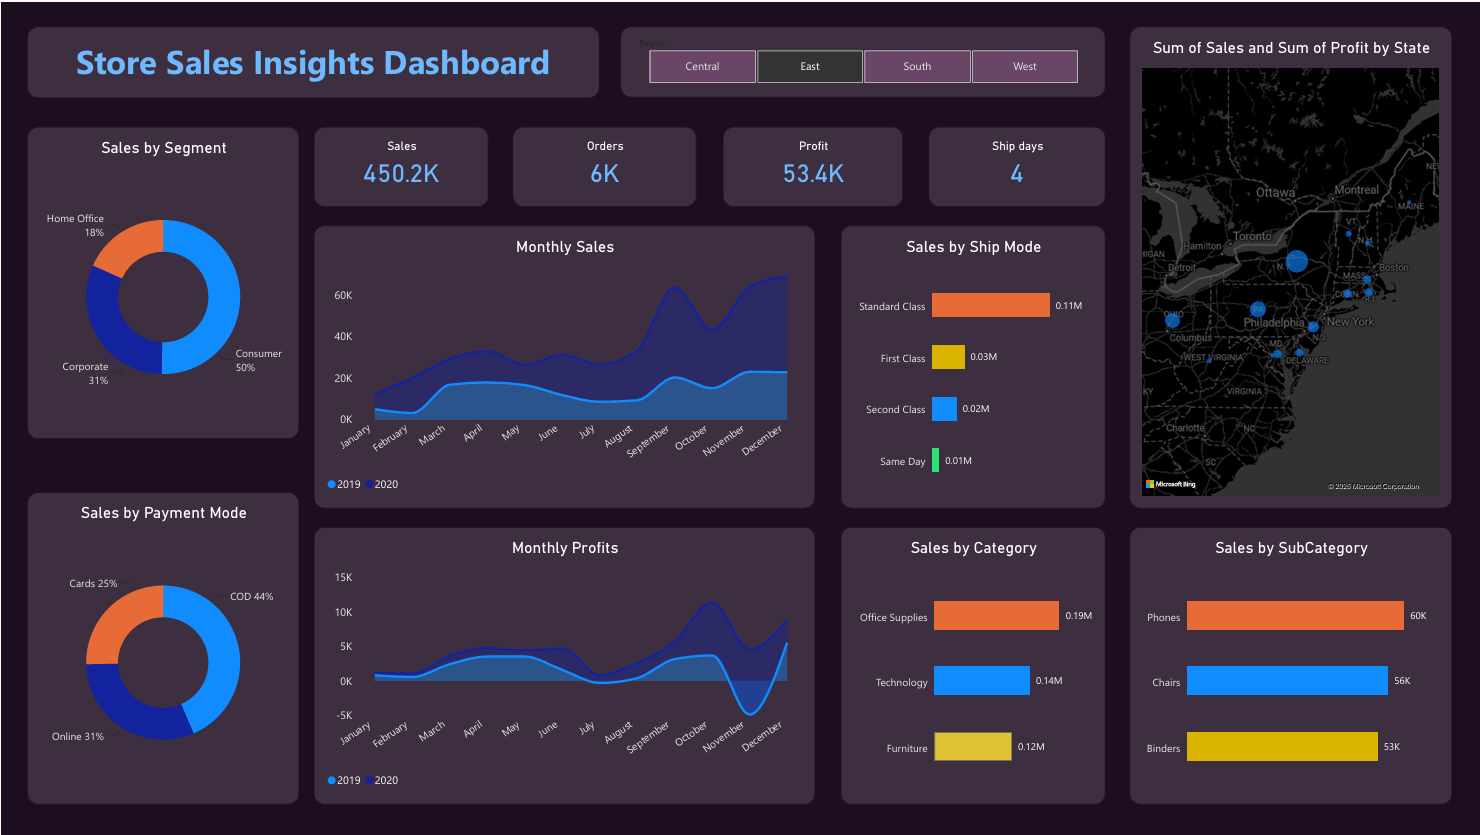

Layout of this report page (visuals, bound fields, positions):
{"tool":"powerbi","page":{"name":"Page 1","canvas":[1920,1080],"ordinal":0},"visuals":[{"type":"clusteredBarChart","title":"Sales by Category","fields":{"Category":["Sheet1.Category"],"Y":["Sum(Sheet1.Sales)"]},"box":[1089.5,679.7,343.4,360],"z":0},{"type":"clusteredBarChart","title":"Sales by SubCategory","fields":{"Category":["Sheet1.Sub-Category"],"Y":["Sum(Sheet1.Sales)"]},"box":[1463.7,679.7,419.2,360],"z":1000},{"type":"clusteredBarChart","title":"Sales by Ship Mode","fields":{"Category":["Sheet1.Ship Mode"],"Y":["Sum(Sheet1.Sales)"]},"box":[1089.5,289,343.4,367.1],"z":2000},{"type":"stackedAreaChart","title":"Monthly Sales ","fields":{"Category":["Sheet1.Order Date.Variation.Date Hierarchy.Month","Sheet1.Order Date.Variation.Date Hierarchy.Day"],"Series":["Sheet1.Order Date.Variation.Date Hierarchy.Year"],"Y":["Sum(Sheet1.Sales)"]},"box":[405,289,651.3,367.1],"z":3000},{"type":"stackedAreaChart","title":"Monthly Profits ","fields":{"Category":["Sheet1.Order Date.Variation.Date Hierarchy.Month","Sheet1.Order Date.Variation.Date Hierarchy.Day"],"Series":["Sheet1.Order Date.Variation.Date Hierarchy.Year"],"Y":["Sum(Sheet1.Profit)"]},"box":[405,679.7,651.3,360],"z":4000},{"type":"map","fields":{"Category":["Sheet1.State"],"Size":["Sum(Sheet1.Sales)"]},"box":[1463.7,30.8,419.2,625.3],"z":5000},{"type":"donutChart","title":"Sales by Segment","fields":{"Category":["Sheet1.Segment"],"Y":["Sum(Sheet1.Sales)"]},"box":[33.2,161.1,352.9,405],"z":6000},{"type":"donutChart","title":"Sales by Payment Mode","fields":{"Category":["Sheet1.Payment Mode"],"Y":["Sum(Sheet1.Sales)"]},"box":[33.2,634.7,352.9,405],"z":7000},{"type":"slicer","fields":{"Values":["Sheet1.Region"]},"box":[802.9,30.8,630,92.4],"z":8000},{"type":"textbox","box":[33.2,30.8,742.7,93.1],"z":9000},{"type":"cardVisual","title":"Ship days","fields":{"Data":["Avg(Sheet1.AvgDelivery)"]},"box":[1203.2,161.1,229.7,104.2],"z":10000},{"type":"cardVisual","title":"Orders","fields":{"Data":["Sum(Sheet1.Quantity)"]},"box":[663.2,161.1,239.2,104.2],"z":11000},{"type":"cardVisual","title":"Profit","fields":{"Data":["Sum(Sheet1.Profit)"]},"box":[935.5,161.1,234.5,104.2],"z":12000},{"type":"cardVisual","title":"Sales","fields":{"Data":["Sum(Sheet1.Sales)"]},"box":[405,161.1,227.4,104.2],"z":13000}]}

Visuals, with their boxes in screenshot pixels (x1, y1, x2, y2), scaled from the page's 1920x1080 canvas onto the 1480x835 screenshot:
"Sales by Category" clusteredBarChart: (x1=840, y1=526, x2=1105, y2=804)
"Sales by SubCategory" clusteredBarChart: (x1=1128, y1=526, x2=1451, y2=804)
"Sales by Ship Mode" clusteredBarChart: (x1=840, y1=223, x2=1105, y2=507)
"Monthly Sales " stackedAreaChart: (x1=312, y1=223, x2=814, y2=507)
"Monthly Profits " stackedAreaChart: (x1=312, y1=526, x2=814, y2=804)
map - Sheet1.State x Sum(Sheet1.Sales): (x1=1128, y1=24, x2=1451, y2=507)
"Sales by Segment" donutChart: (x1=26, y1=125, x2=298, y2=438)
"Sales by Payment Mode" donutChart: (x1=26, y1=491, x2=298, y2=804)
slicer - Sheet1.Region: (x1=619, y1=24, x2=1105, y2=95)
textbox: (x1=26, y1=24, x2=598, y2=96)
"Ship days" cardVisual: (x1=927, y1=125, x2=1105, y2=205)
"Orders" cardVisual: (x1=511, y1=125, x2=696, y2=205)
"Profit" cardVisual: (x1=721, y1=125, x2=902, y2=205)
"Sales" cardVisual: (x1=312, y1=125, x2=487, y2=205)
